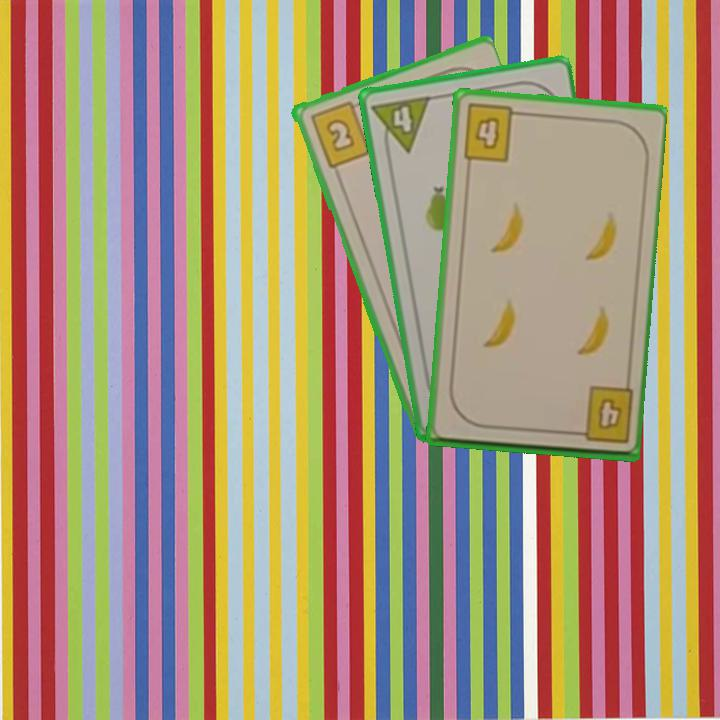2b: (306, 97, 373, 170)
4b: (567, 383, 635, 447), (459, 100, 525, 165)
4p: (368, 92, 433, 159)
